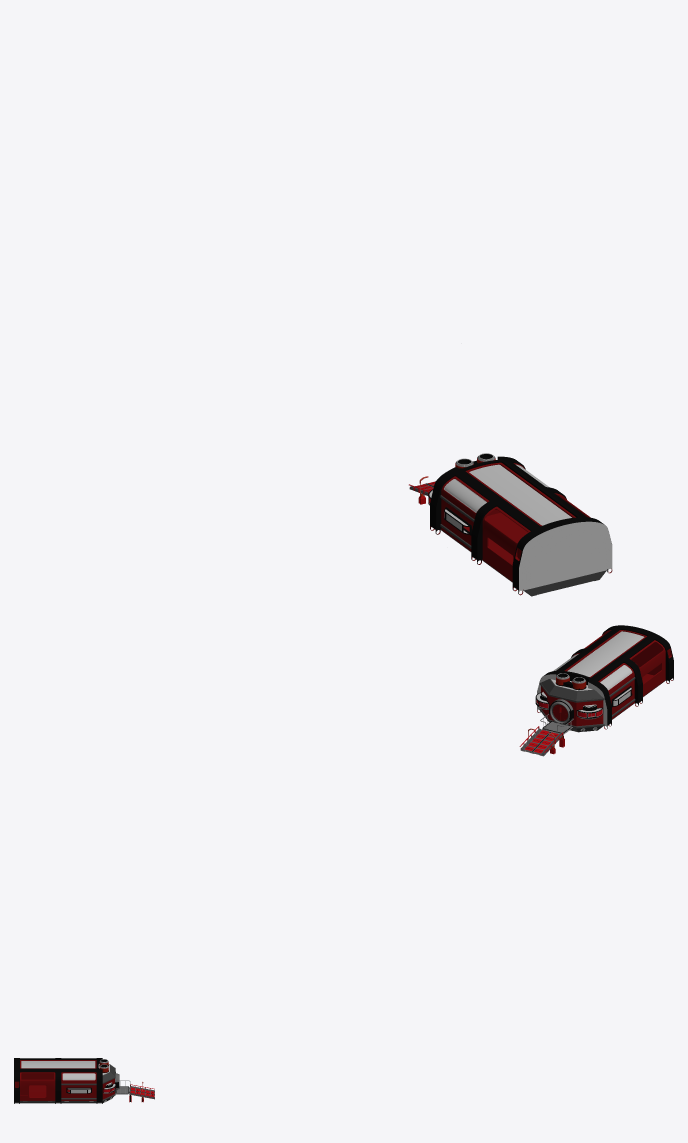
File: khubatdau.fbx
3 views of the same model, one above another, from view 1: azimuth 30°, elevation 25°; view 2: azimuth 150°, elevation 25°; view 3: azimuth 270°, elevation 25° (orthographic). The views are drawn at different scales.
Visible parts, largest first — view 1: KB3D_MTM_BldgSmScienceLab_A_MainModule.531; view 2: KB3D_MTM_BldgSmScienceLab_A_MainModule.531, KB3D_MTM_BldgMdRoverGarage_A_Building.019; view 3: KB3D_MTM_BldgSmScienceLab_A_MainModule.531, KB3D_MTM_BldgMdRoverGarage_A_Building.019.
Boxes of the visible parts, bbox=[...] form: KB3D_MTM_BldgSmScienceLab_A_MainModule.531: bbox=[428, 453, 612, 596]; KB3D_MTM_BldgSmScienceLab_A_MainModule.531: bbox=[535, 625, 673, 734]; KB3D_MTM_BldgMdRoverGarage_A_Building.019: bbox=[519, 726, 564, 756]; KB3D_MTM_BldgSmScienceLab_A_MainModule.531: bbox=[14, 1058, 130, 1103]; KB3D_MTM_BldgMdRoverGarage_A_Building.019: bbox=[129, 1082, 154, 1102].
Bounding box in the file's own units: 25824 × 19999 × 135044.
